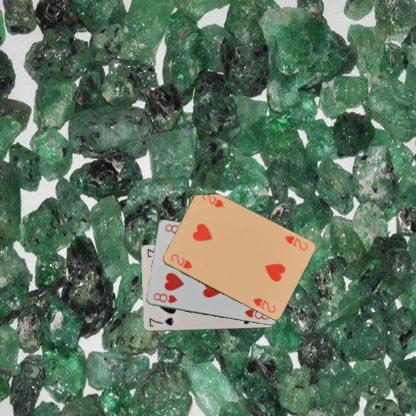2h: (282, 233, 309, 252), (168, 252, 194, 270)
7s: (146, 316, 175, 328)
8h: (151, 290, 178, 304)
